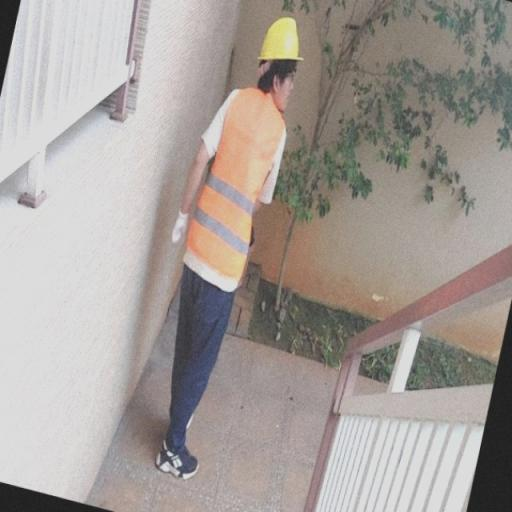Person: (160, 19, 314, 481)
gloves: (166, 204, 188, 250)
helmet: (258, 16, 303, 62)
vest: (188, 85, 292, 285)
